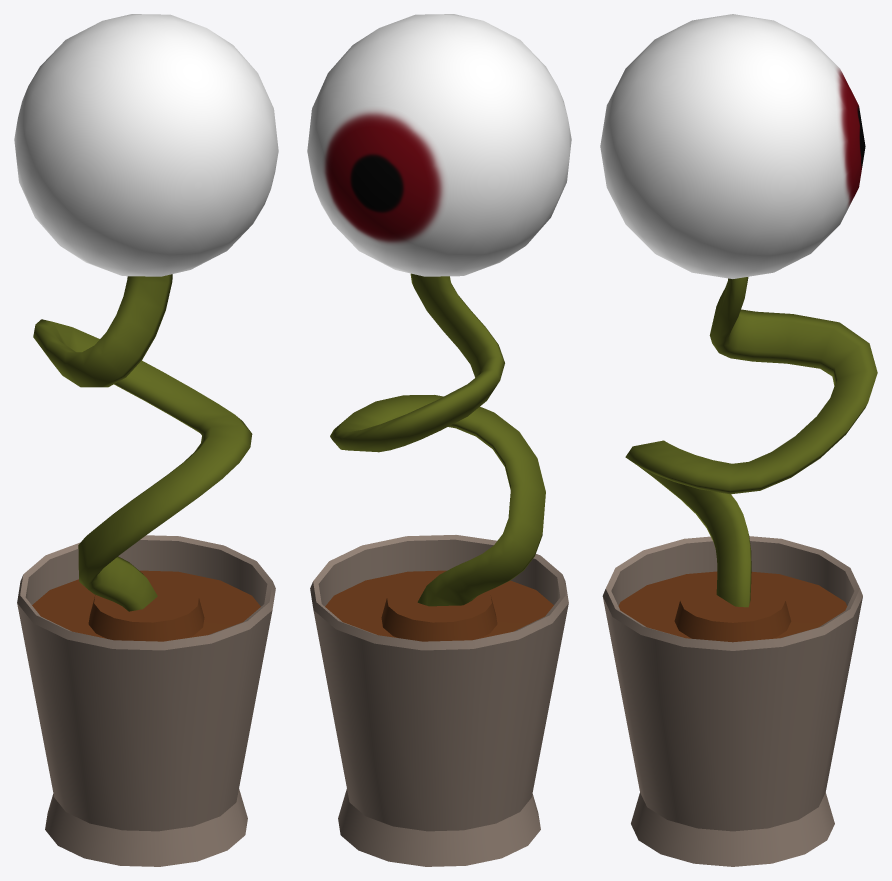
Rendered from EyeTree.fbx.
3 views of the same model, side by side, from view 1: azimuth 30°, elevation 25°; view 2: azimuth 150°, elevation 25°; view 3: azimuth 270°, elevation 25° (orthographic).
Parts seen in each view (by area): view 1: Cylinder, Icosphere, BézierCurve; view 2: Cylinder, Icosphere, BézierCurve; view 3: Cylinder, Icosphere, BézierCurve.
Boxes of the visible parts, <box> form: Cylinder: <box>17,535,275,866</box>; Icosphere: <box>14,14,278,276</box>; BézierCurve: <box>33,274,252,611</box>; Cylinder: <box>310,535,568,866</box>; Icosphere: <box>307,14,571,276</box>; BézierCurve: <box>330,273,545,606</box>; Cylinder: <box>602,536,862,866</box>; Icosphere: <box>600,14,865,278</box>; BézierCurve: <box>625,277,877,607</box>.
Size of the model in its own units: 2 by 6.63 by 2.09.
